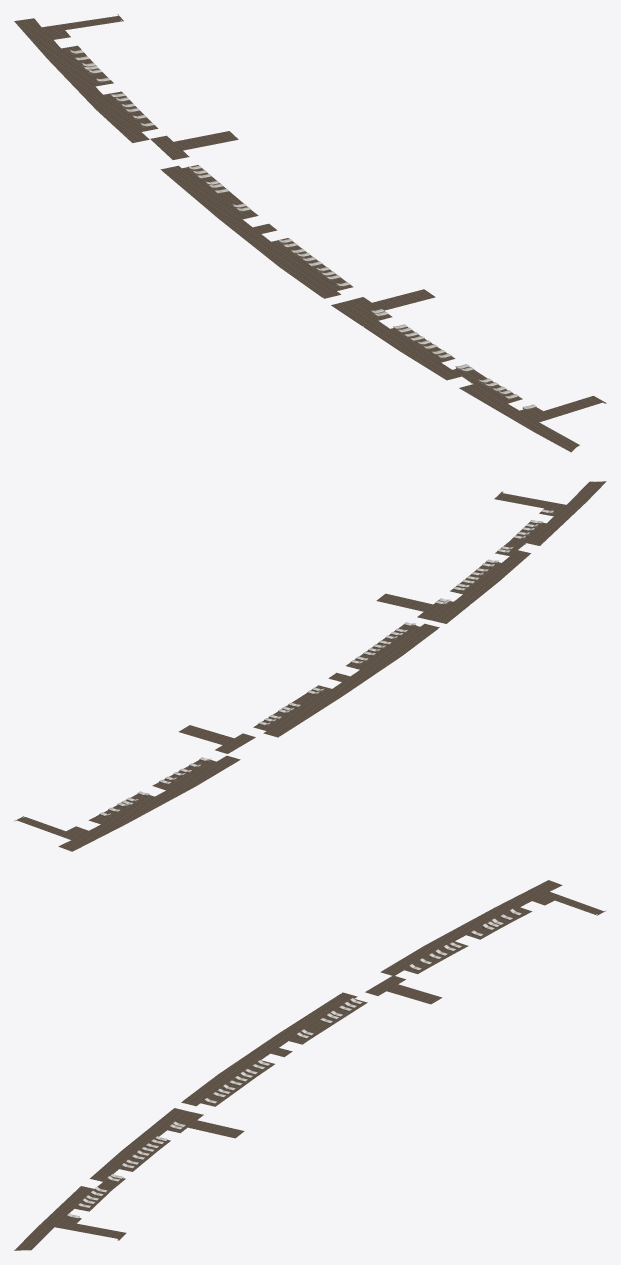
The picture shows the model from 3 angles, top to bottom: view 1: azimuth 30°, elevation 25°; view 2: azimuth 150°, elevation 25°; view 3: azimuth 330°, elevation 25°; orthographic projection. The views are drawn at different scales.
Parts seen in each view (by area): view 1: Poolside timber boards, Ivory lounger cushions, Lounger frames; view 2: Poolside timber boards, Ivory lounger cushions, Lounger frames; view 3: Poolside timber boards, Ivory lounger cushions, Lounger frames.
Boxes of the visible parts, x1,y1,x2,y2 form: Poolside timber boards: (14,14,606,452); Ivory lounger cushions: (69,50,536,408); Lounger frames: (69,52,536,411); Poolside timber boards: (14,481,606,851); Ivory lounger cushions: (99,509,553,815); Lounger frames: (99,512,553,818); Poolside timber boards: (14,880,606,1250); Ivory lounger cushions: (67,908,521,1218); Lounger frames: (67,912,521,1219).
Size of the model in its own units: 22.26 by 0.8822 by 161.
Materials: 3 (2 with a texture image).
